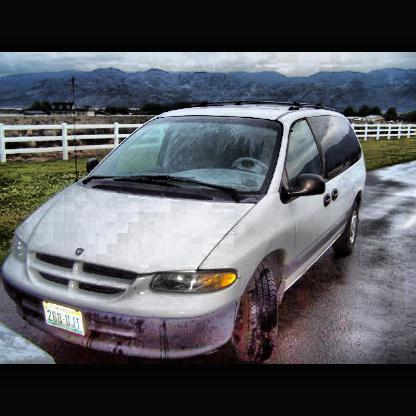Dodge Caravan Minivan 1997: (4, 107, 366, 346)
